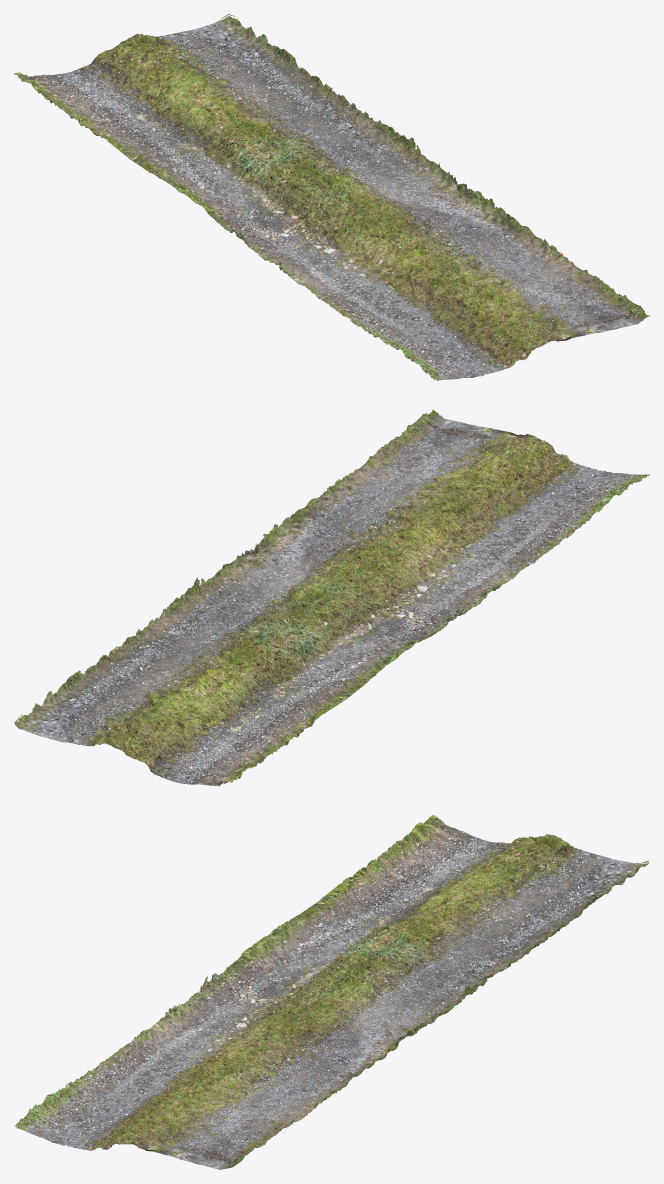
The model's file is gravel_road_2.glb.
The picture shows the model from 3 angles, top to bottom: view 1: azimuth 30°, elevation 25°; view 2: azimuth 150°, elevation 25°; view 3: azimuth 330°, elevation 25°; orthographic projection.
Parts seen in each view (by area): view 1: Object_2, Object_3; view 2: Object_2, Object_3; view 3: Object_2, Object_3.
Part boxes in pixels (left/top/right/bottom): Object_2: left=17, top=14, right=649, bottom=380; Object_3: left=14, top=41, right=565, bottom=370; Object_2: left=14, top=409, right=649, bottom=786; Object_3: left=78, top=452, right=622, bottom=784; Object_2: left=15, top=816, right=649, bottom=1169; Object_3: left=42, top=815, right=585, bottom=1135.
Bounding box in the file's own units: 1.67 × 0.2159 × 5.54.
Materials: 1 (1 with a texture image).
